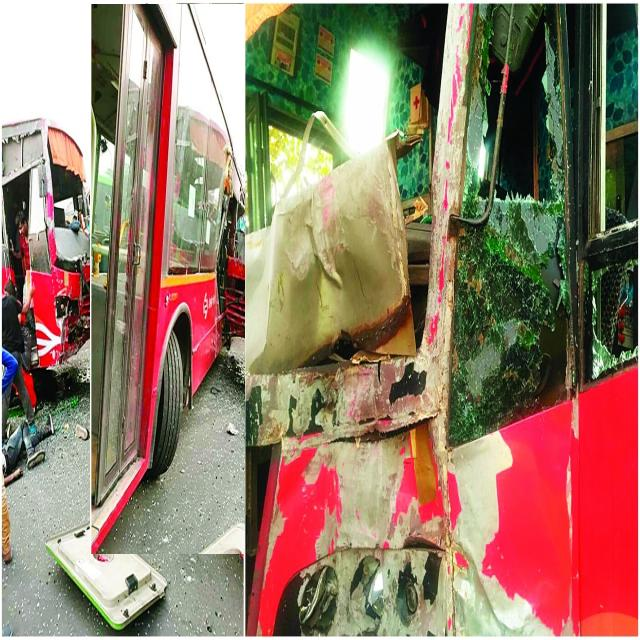accident: (245, 0, 640, 632), (90, 5, 245, 554), (1, 118, 110, 369)
